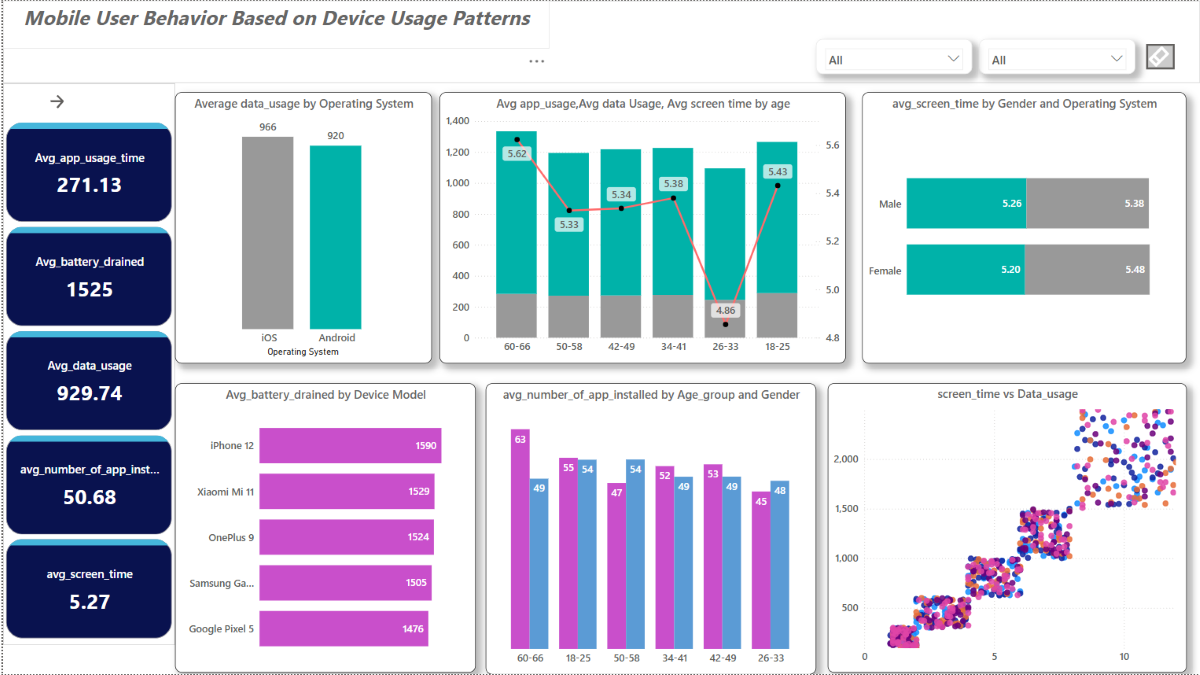

This screenshot's page, from the dashboard's own definition file:
{"tool":"powerbi","page":{"name":"Report","canvas":[1920,1080],"ordinal":0},"visuals":[{"type":"shape","box":[0,0,1920.7,132.1],"z":0},{"type":"shape","box":[0,132.1,276.1,901.1],"z":1000},{"type":"clusteredColumnChart","title":"Average data_usage by Operating System","fields":{"Category":["user_behavior_dataset.Operating System"],"Y":["user_behavior_dataset.Avg_data_usage"]},"box":[276,146.7,411.6,435.3],"z":2000},{"type":"clusteredBarChart","fields":{"Category":["user_behavior_dataset.Device Model"],"Y":["user_behavior_dataset.Avg_battery_drained"]},"box":[276,613.5,482.6,463.7],"z":3000},{"type":"lineStackedColumnComboChart","title":"Avg app_usage,Avg data Usage, Avg screen time by age","fields":{"Category":["user_behavior_dataset.Age_group"],"Y":["user_behavior_dataset.Avg_app_usage_time","user_behavior_dataset.Avg_data_usage"],"Y2":["user_behavior_dataset.avg_screen_time"]},"box":[699.5,147.4,652.1,435.3],"z":4000},{"type":"barChart","fields":{"Category":["user_behavior_dataset.Gender"],"Y":["user_behavior_dataset.avg_screen_time"],"Series":["user_behavior_dataset.Operating System"]},"box":[1378.7,147.4,520,435.3],"z":5000},{"type":"scatterChart","title":"screen_time vs Data_usage","fields":{"Category":["user_behavior_dataset.User ID"],"X":["user_behavior_dataset.avg_screen_time"],"Y":["user_behavior_dataset.Avg_data_usage"],"Series":["user_behavior_dataset.Device Model"]},"box":[1322.8,613.1,575.9,464.1],"z":6000},{"type":"cardVisual","fields":{"Data":["user_behavior_dataset.Avg_app_usage_time","user_behavior_dataset.Avg_battery_drained","user_behavior_dataset.Avg_data_usage","user_behavior_dataset.avg_number_of_app_installed","user_behavior_dataset.avg_screen_time"]},"box":[0,191.4,276.1,841.8],"z":7000},{"type":"clusteredColumnChart","fields":{"Category":["user_behavior_dataset.Age_group"],"Series":["user_behavior_dataset.Gender"],"Y":["user_behavior_dataset.avg_number_of_app_installed"]},"box":[774,613.1,530.1,467.5],"z":8000},{"type":"textbox","box":[0,0,876.9,77.3],"z":9000},{"type":"slicer","fields":{"Values":["user_behavior_dataset.Operating System"]},"box":[1304.2,61,250.7,55.9],"z":10000},{"type":"slicer","fields":{"Values":["user_behavior_dataset.Device Model"]},"box":[1566.7,61,250.7,55.9],"z":11000},{"type":"actionButton","box":[1834.3,69.4,45.7,40.6],"z":12000},{"type":"actionButton","box":[71.1,147.4,67.7,30.5],"z":13000}]}

Visuals, with their boxes in screenshot pixels (x1, y1, x2, y2), scaled from the page's 1920x1080 canvas onto the 1200x675 screenshot:
shape: pyautogui.locateOnScreen(0, 0, 1199, 83)
shape: pyautogui.locateOnScreen(0, 83, 173, 646)
"Average data_usage by Operating System" clusteredColumnChart: pyautogui.locateOnScreen(172, 92, 430, 364)
clusteredBarChart - user_behavior_dataset.Device Model x user_behavior_dataset.Avg_battery_drained: pyautogui.locateOnScreen(172, 383, 474, 673)
"Avg app_usage,Avg data Usage, Avg screen time by age" lineStackedColumnComboChart: pyautogui.locateOnScreen(437, 92, 845, 364)
barChart - user_behavior_dataset.Gender x user_behavior_dataset.avg_screen_time: pyautogui.locateOnScreen(862, 92, 1187, 364)
"screen_time vs Data_usage" scatterChart: pyautogui.locateOnScreen(827, 383, 1187, 673)
cardVisual - user_behavior_dataset.Avg_app_usage_time x user_behavior_dataset.Avg_battery_drained: pyautogui.locateOnScreen(0, 120, 173, 646)
clusteredColumnChart - user_behavior_dataset.Age_group x user_behavior_dataset.Gender: pyautogui.locateOnScreen(484, 383, 815, 674)
textbox: pyautogui.locateOnScreen(0, 0, 548, 48)
slicer - user_behavior_dataset.Operating System: pyautogui.locateOnScreen(815, 38, 972, 73)
slicer - user_behavior_dataset.Device Model: pyautogui.locateOnScreen(979, 38, 1136, 73)
actionButton: pyautogui.locateOnScreen(1146, 43, 1175, 69)
actionButton: pyautogui.locateOnScreen(44, 92, 87, 111)
